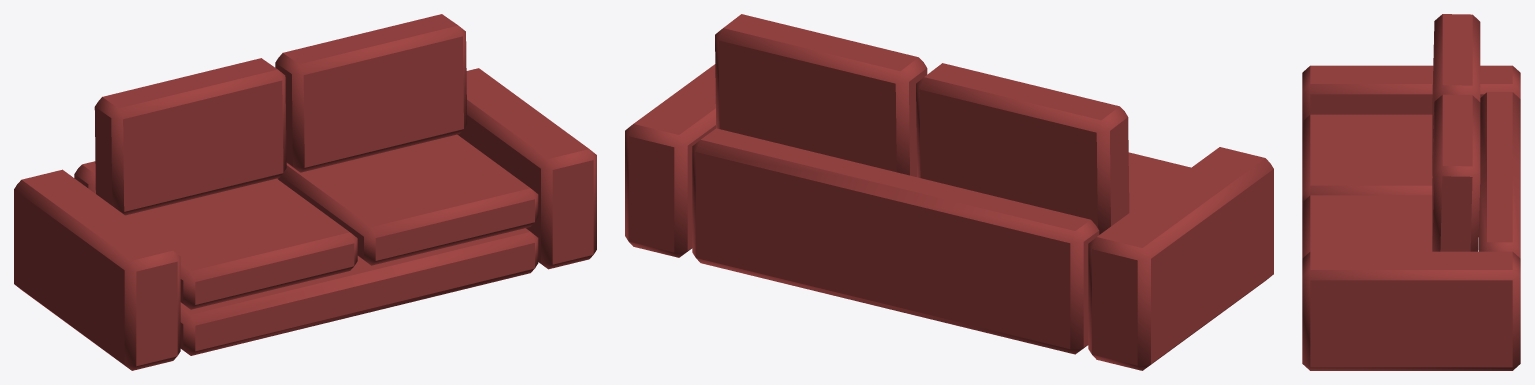
The model's file is Sofa.glb.
The picture shows the model from 3 angles, left to right: view 1: azimuth 30°, elevation 25°; view 2: azimuth 150°, elevation 25°; view 3: azimuth 270°, elevation 25°; orthographic projection. The views are drawn at different scales.
Visible parts, largest first — view 1: Sofa; view 2: Sofa; view 3: Sofa.
Part boxes in pixels (x1,y1,x2,y2): Sofa: (14, 14, 596, 370); Sofa: (625, 14, 1273, 370); Sofa: (1302, 14, 1520, 370).
Size of the model in its own units: 3.35 by 1.32 by 1.46.
